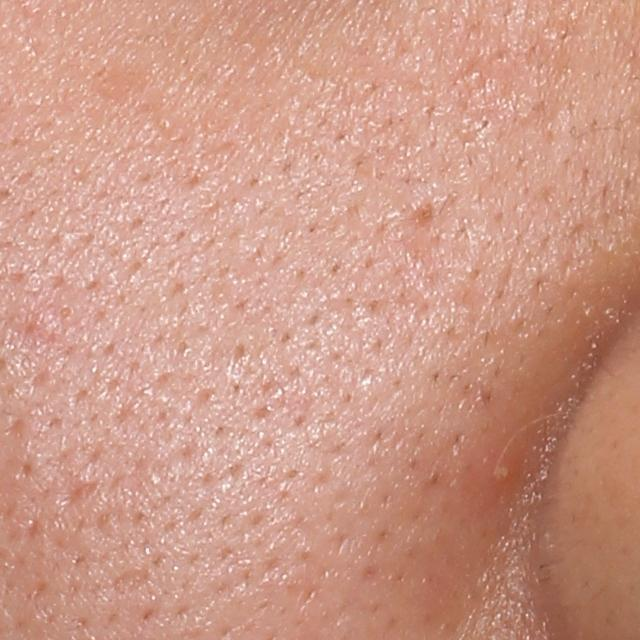atrophic_scar: (108, 565, 153, 595), (54, 481, 102, 505)
comedo: (53, 299, 76, 323)
